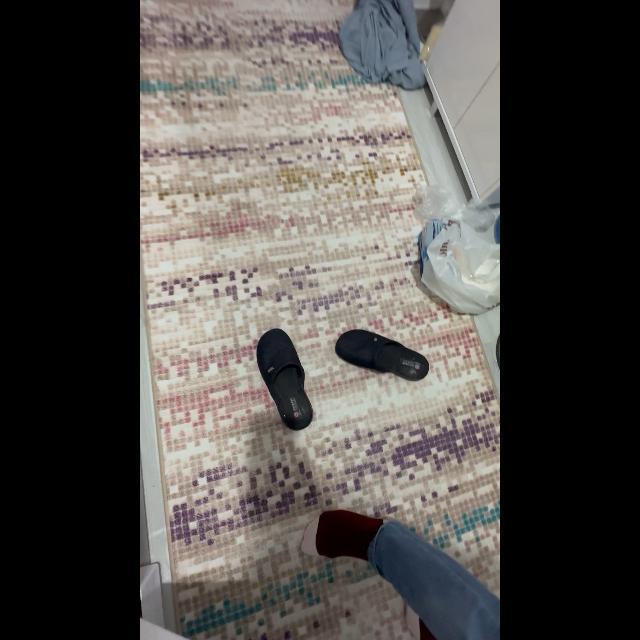slipper: (250, 322, 324, 432), (328, 324, 434, 388)
